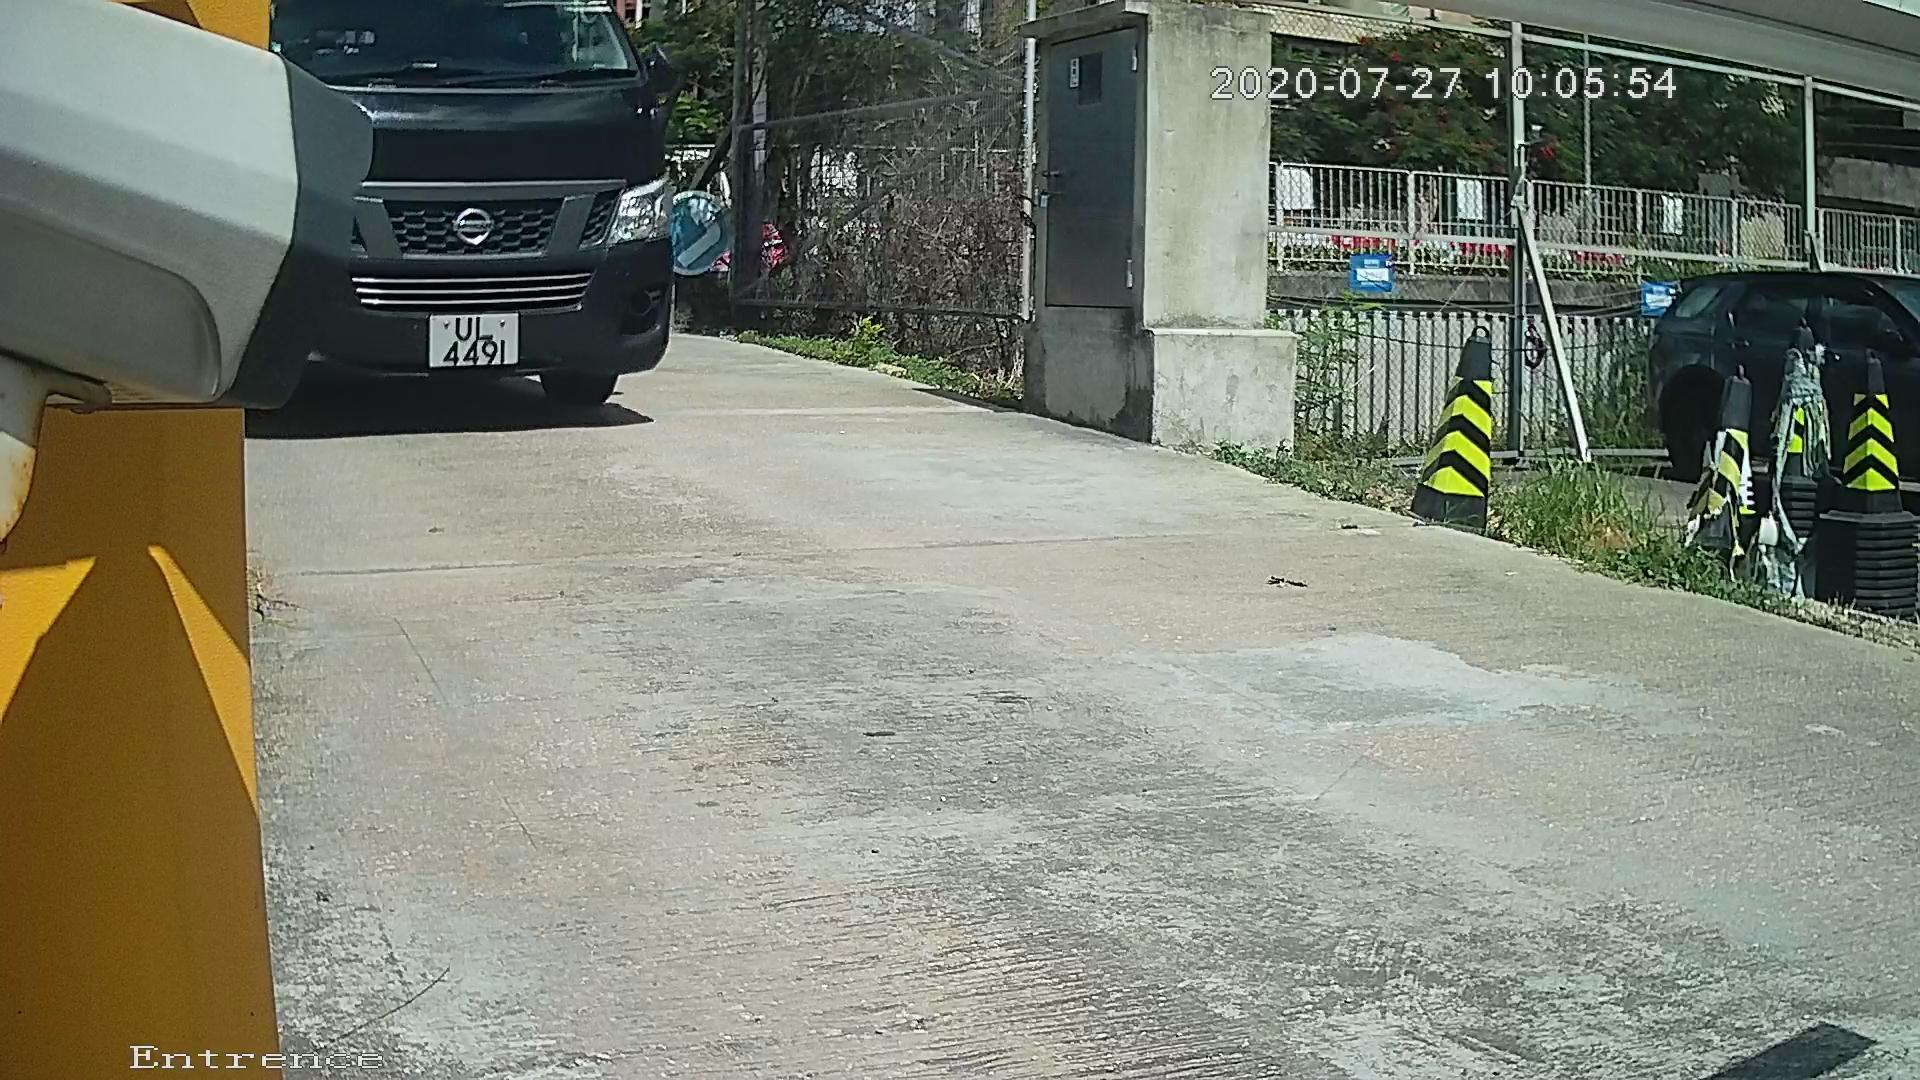Car: (43, 5, 806, 512)
License Plate: (395, 285, 532, 386)
